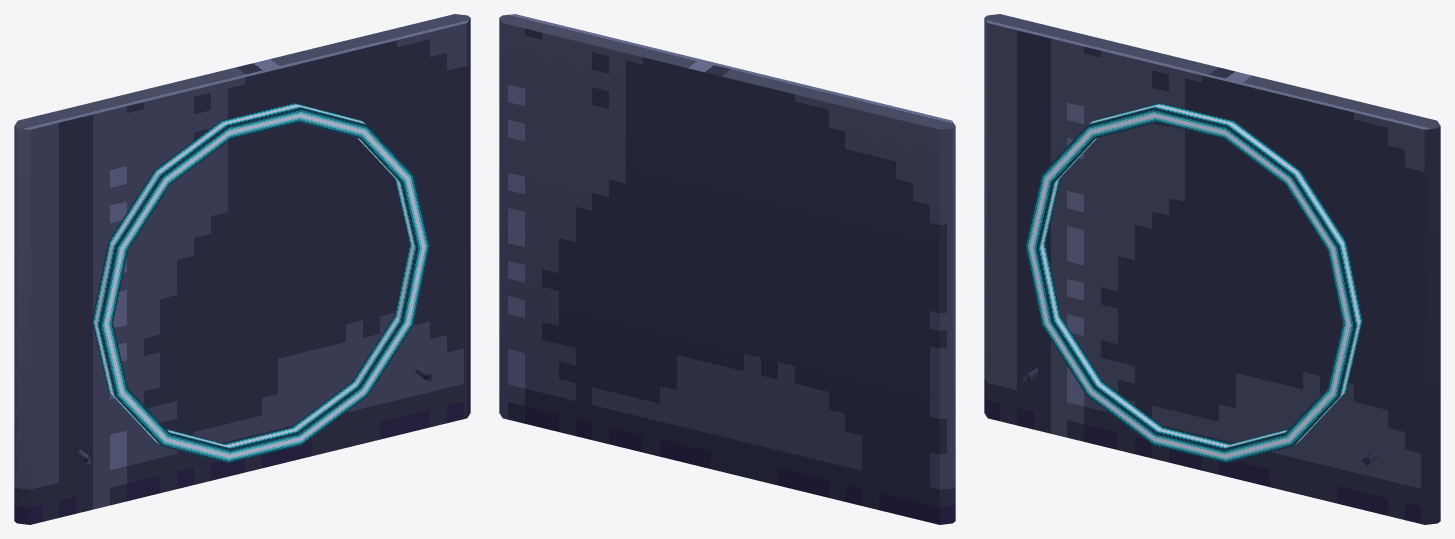
The model's file is cysign.tube.glb.
The picture shows the model from 3 angles, left to right: view 1: azimuth 30°, elevation 25°; view 2: azimuth 150°, elevation 25°; view 3: azimuth 330°, elevation 25°; orthographic projection.
Parts seen in each view (by area): view 1: kit_plate, kit_tube; view 2: kit_plate; view 3: kit_plate, kit_tube.
Boxes of the visible parts, x1,y1,x2,y2 form: kit_plate: [14, 14, 470, 524]; kit_tube: [75, 102, 431, 464]; kit_plate: [499, 14, 955, 524]; kit_plate: [984, 14, 1440, 524]; kit_tube: [1021, 102, 1378, 465].
Bounding box in the file's own units: 1.68 × 1.4 × 0.1847.
3 materials, 3 textured.
